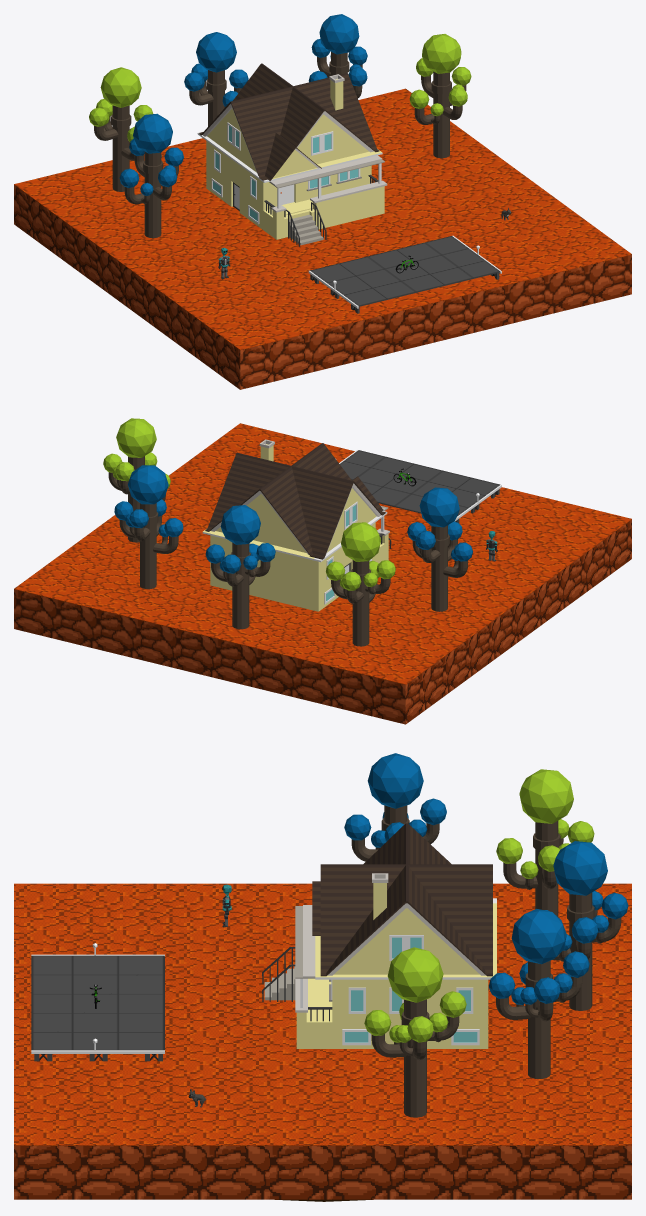
3 renders of one model, top to bottom at view 1: azimuth 30°, elevation 25°; view 2: azimuth 150°, elevation 25°; view 3: azimuth 270°, elevation 25°, orthographic. The views are drawn at different scales.
Parts seen in each view (by area): view 1: Cube.001, Cube.1555; view 2: Cube.001, Cube.1555; view 3: Cube.001, Cube.1555.
Part boxes in pixels (bbox=[...]): Cube.001: bbox=[14, 14, 631, 389]; Cube.1555: bbox=[197, 63, 387, 246]; Cube.001: bbox=[14, 418, 631, 724]; Cube.1555: bbox=[202, 439, 391, 611]; Cube.001: bbox=[14, 753, 631, 1199]; Cube.1555: bbox=[262, 823, 496, 1048].
Size of the model in its own units: 4000 by 1730 by 4000.
39 materials, 4 textured.
